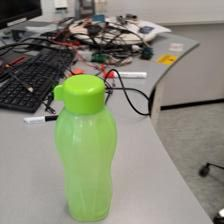bottle: (50, 72, 119, 224)
